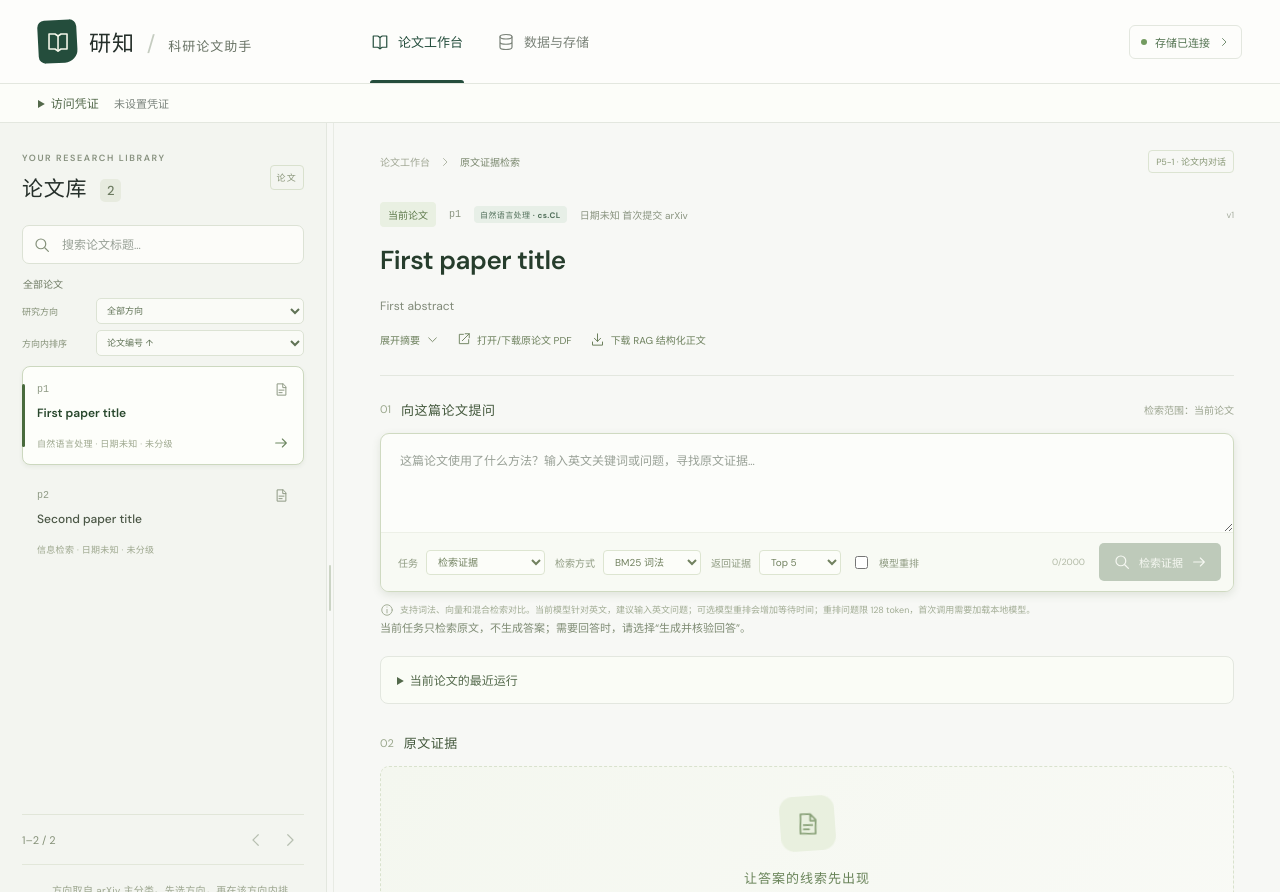
Test case: research session state › renders server failure and retries the same valid query
Expected: the heading "First paper title" below "首次提交 arXiv" is shown, [380, 243, 566, 277]
In the text box named "输入检索问题": [807, 483] box [381, 434, 1233, 532], type "method"
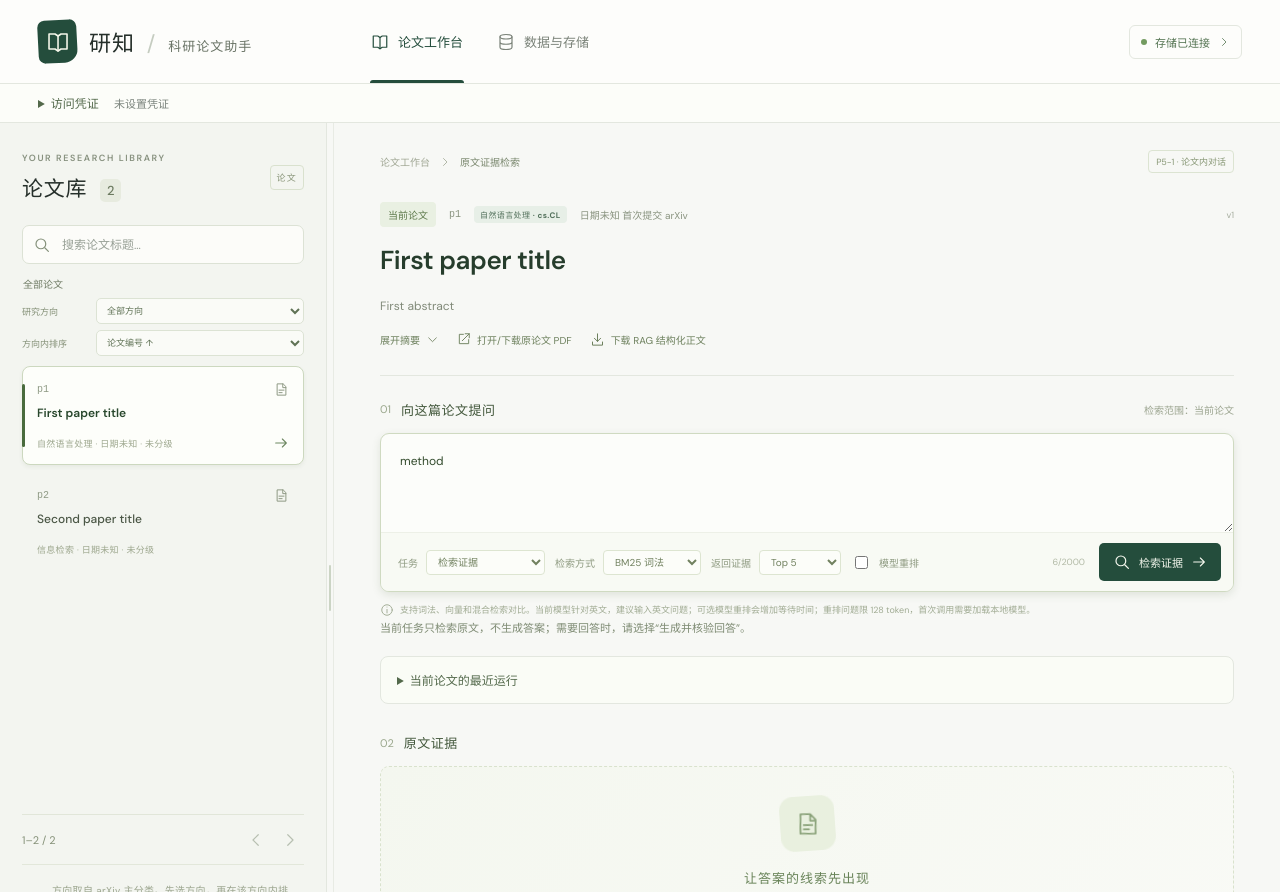
Click the button "检索证据": [1160, 562] box [1099, 544, 1221, 582]
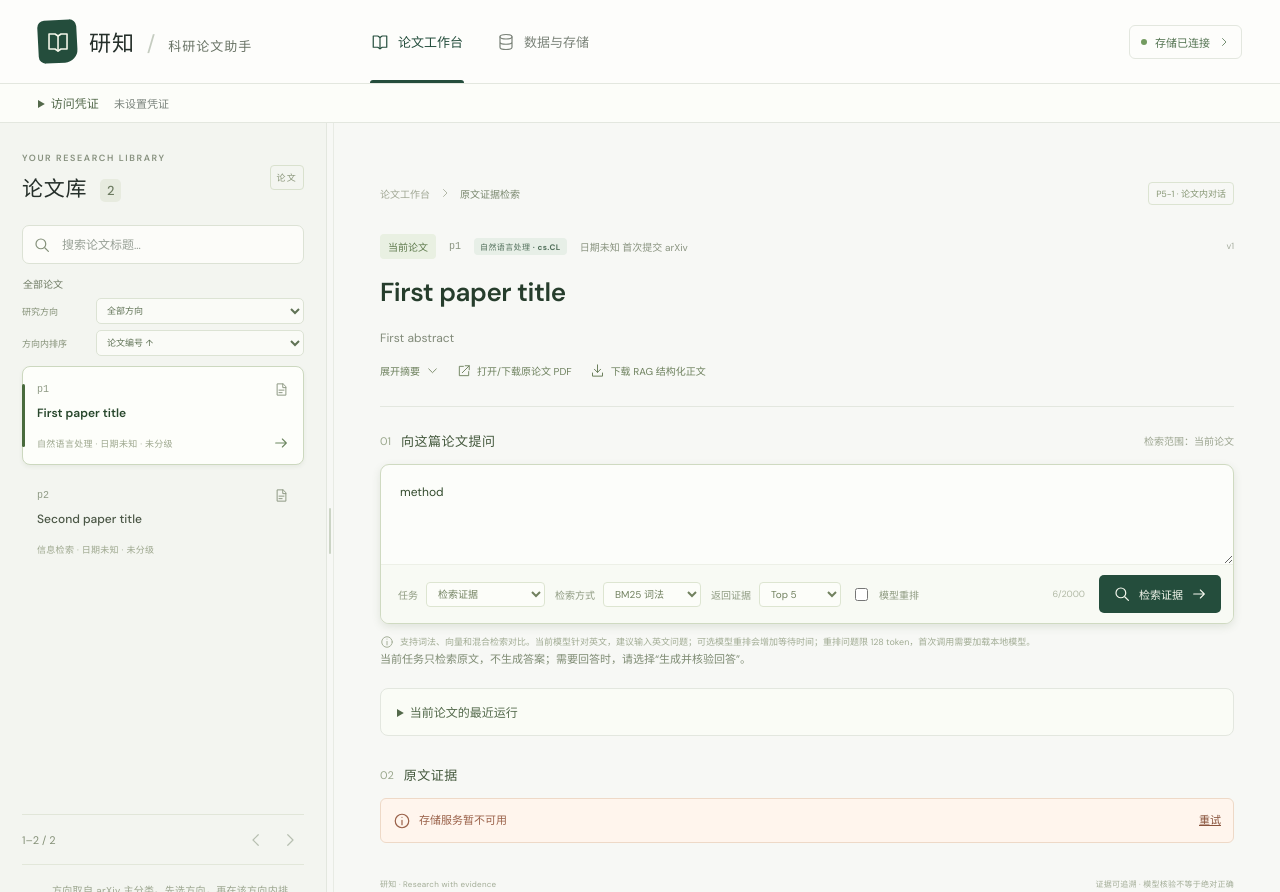
Expected: the text "存储服务暂不可用" is shown, [419, 813, 507, 827]
Click the button "重试": [1210, 821] box [1199, 811, 1221, 830]
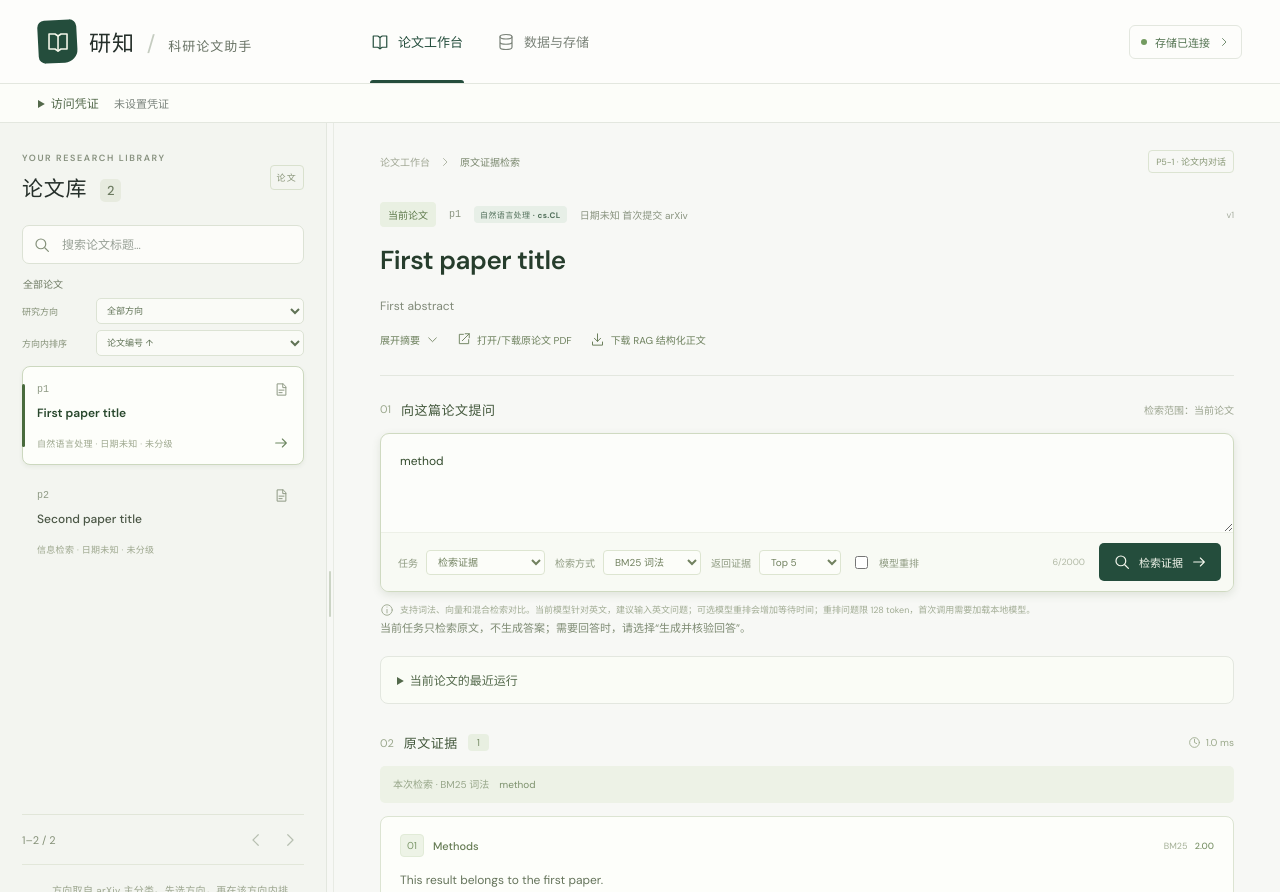
Expected: the text "This result belongs to the first paper." is shown, [400, 872, 603, 888]
